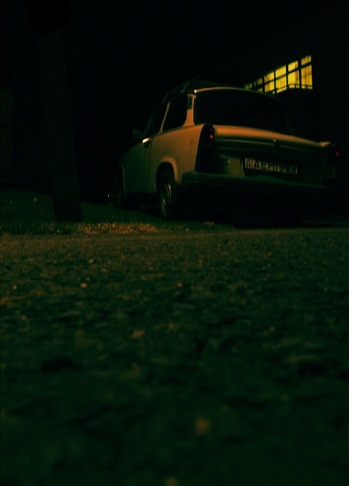car: (104, 82, 343, 240)
